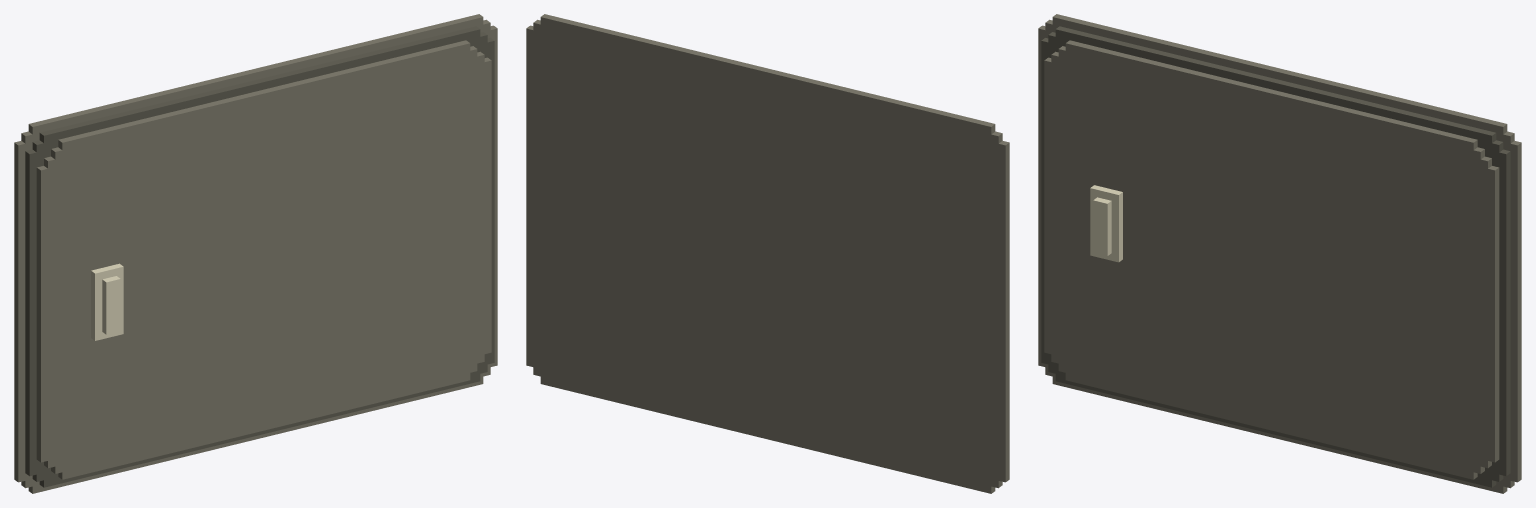
File: factory4.2-30.obj
3 renders of one model, left to right at view 1: azimuth 30°, elevation 25°; view 2: azimuth 150°, elevation 25°; view 3: azimuth 330°, elevation 25°, orthographic.
Bounding box in the file's own units: 6.7 × 4.9 × 0.5.
Materials: 1 (1 with a texture image).
